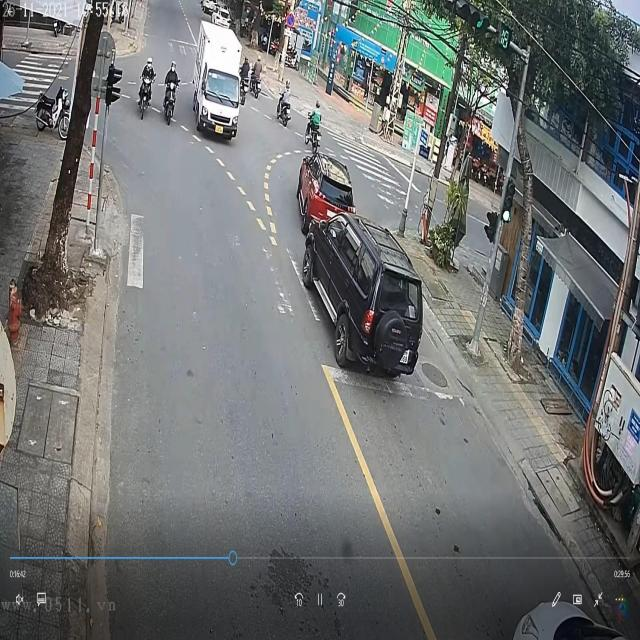car: (302, 215, 427, 379), (297, 153, 354, 232)
motorcycle: (136, 63, 155, 124), (162, 76, 180, 126), (276, 92, 290, 124)
truck: (195, 23, 244, 141)
